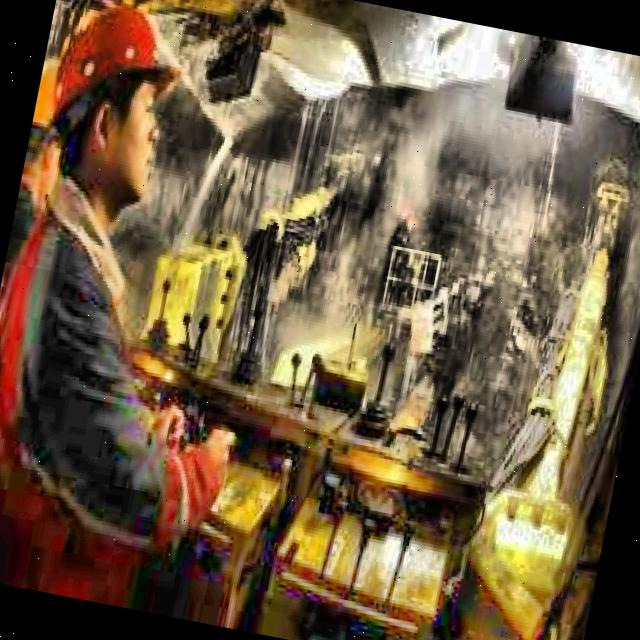helmet: (23, 0, 198, 230)
